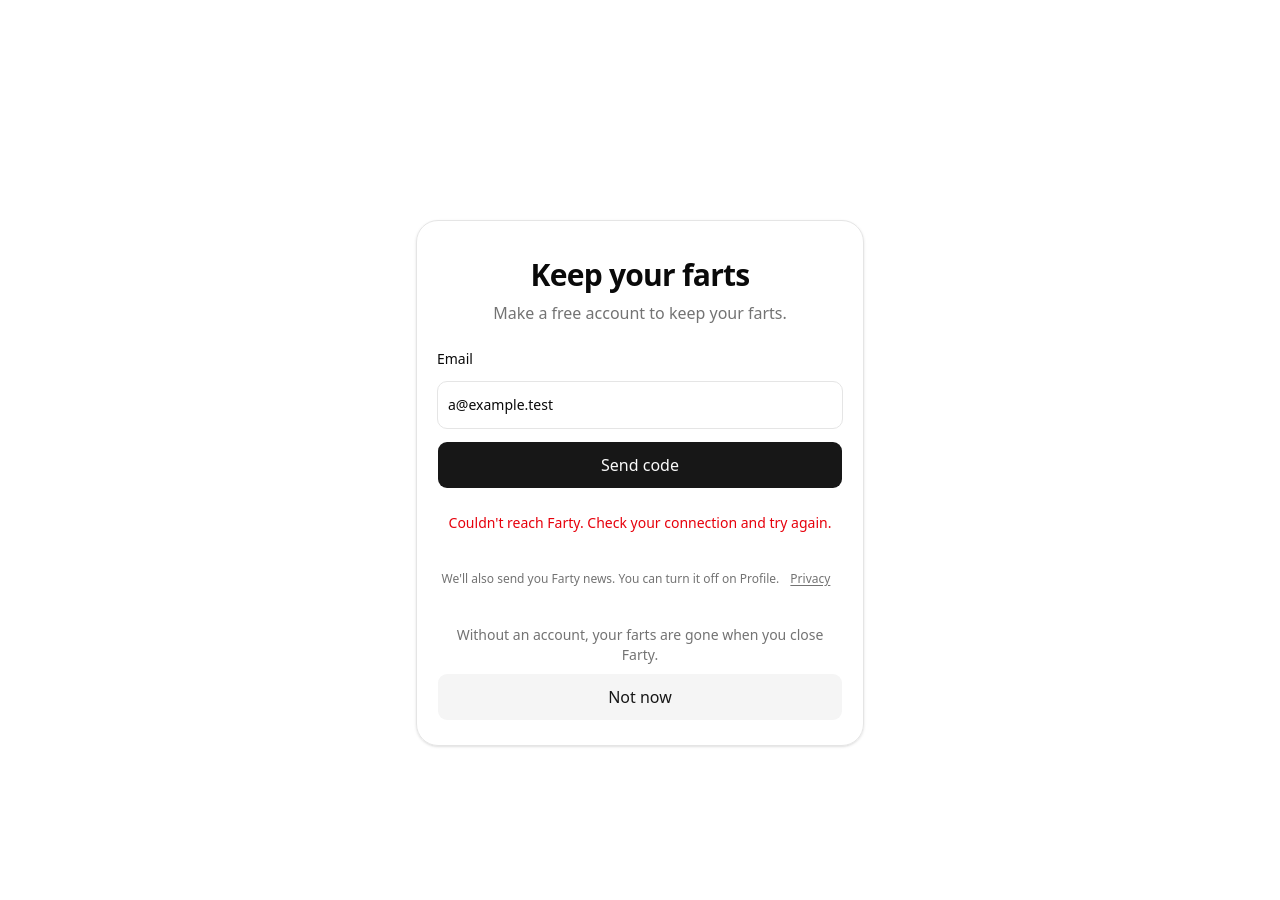
Test: Send code and Turnstile › renders a new widget on a tap when Turnstile couldn't load
Click the button "Send code" at coordinates (640, 464), box left=437, top=440, right=843, bottom=488
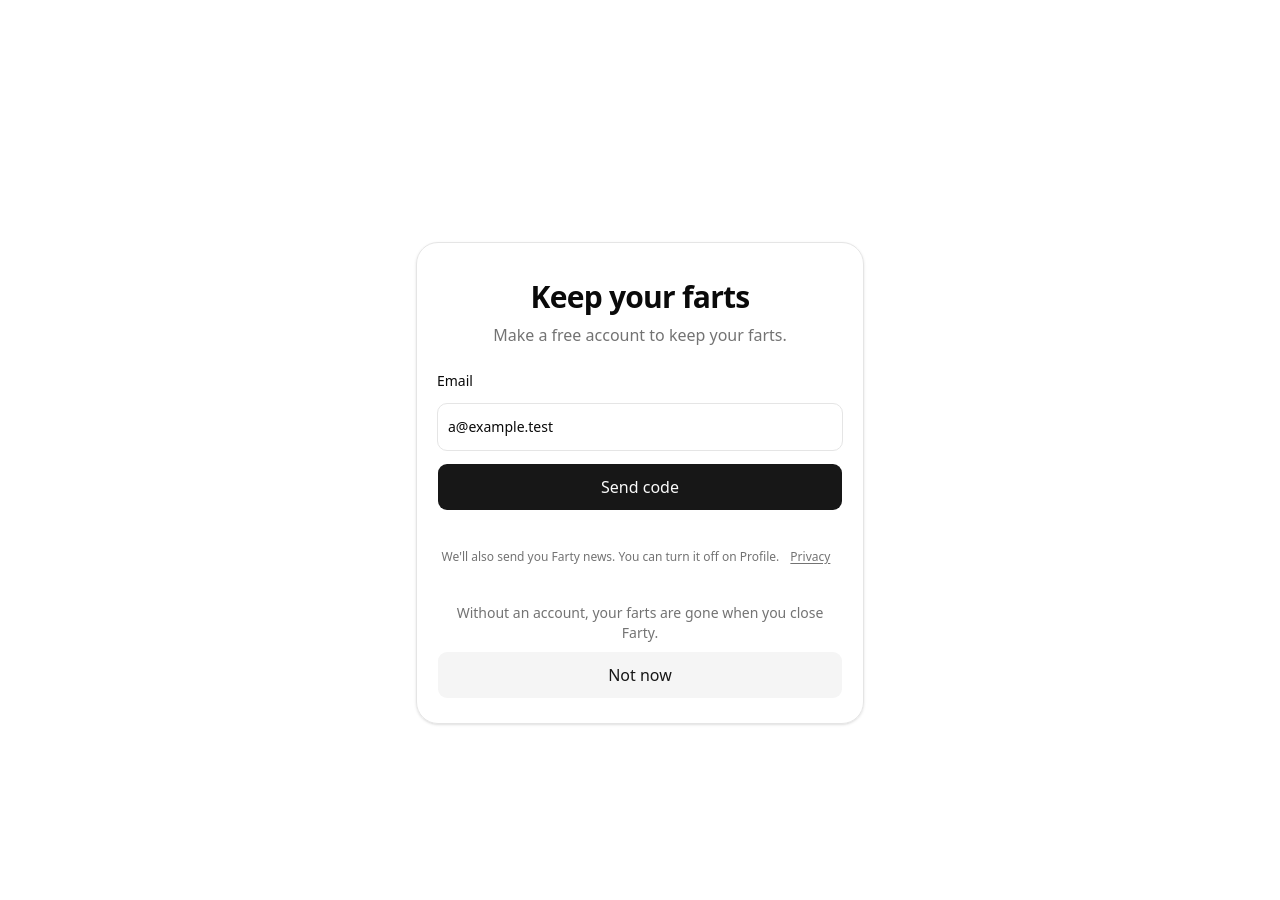
Expected: the button "Send code" is enabled, left=437, top=462, right=843, bottom=510
Result: the message "Couldn't reach Farty. Check your connection and try again." is gone
